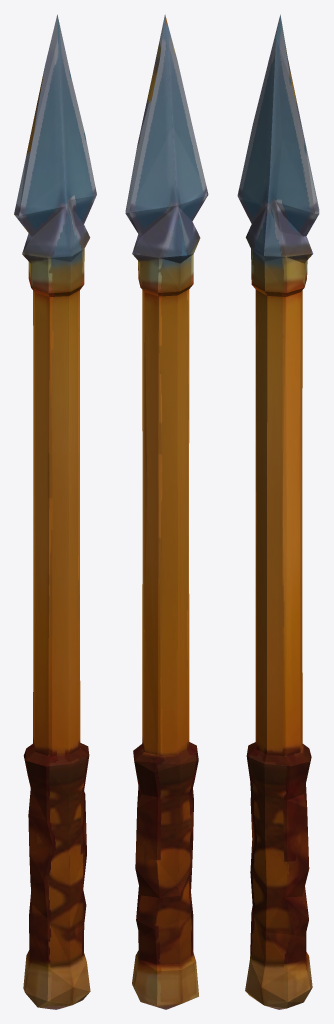
Rendered from ornate_spear_2.glb.
3 renders of one model, left to right at view 1: azimuth 30°, elevation 25°; view 2: azimuth 210°, elevation 25°; view 3: azimuth 330°, elevation 25°, orthographic.
Visible parts, largest first — view 1: TexturedMesh_.obj; view 2: TexturedMesh_.obj; view 3: TexturedMesh_.obj.
Part boxes in pixels (x1=…): TexturedMesh_.obj: x1=14, y1=14, x2=96, y2=1009; TexturedMesh_.obj: x1=125, y1=14, x2=208, y2=1009; TexturedMesh_.obj: x1=237, y1=14, x2=319, y2=1009.
Size of the model in its own units: 0.1715 by 1.99 by 0.1312.
Materials: 1 (1 with a texture image).
